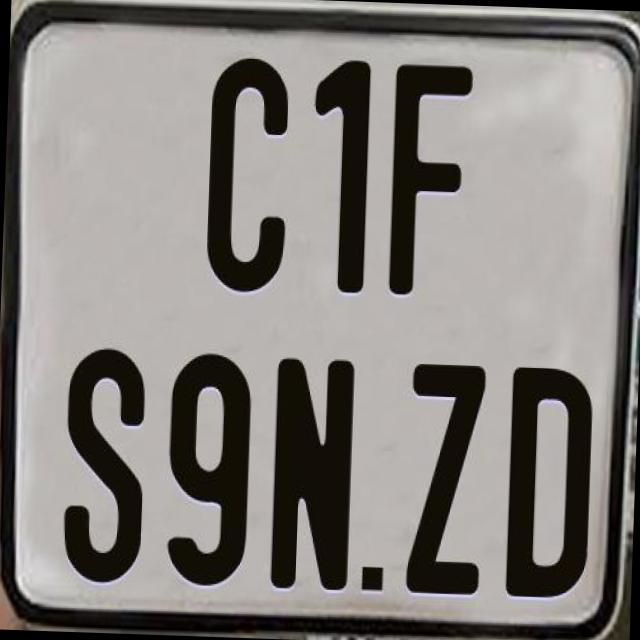1: (304, 59, 371, 294)
9: (164, 348, 259, 586)
C: (204, 54, 290, 295)
D: (505, 363, 593, 595)
F: (383, 63, 478, 304)
N: (268, 357, 362, 598)
S: (59, 347, 150, 588)
Z: (402, 360, 482, 591)
